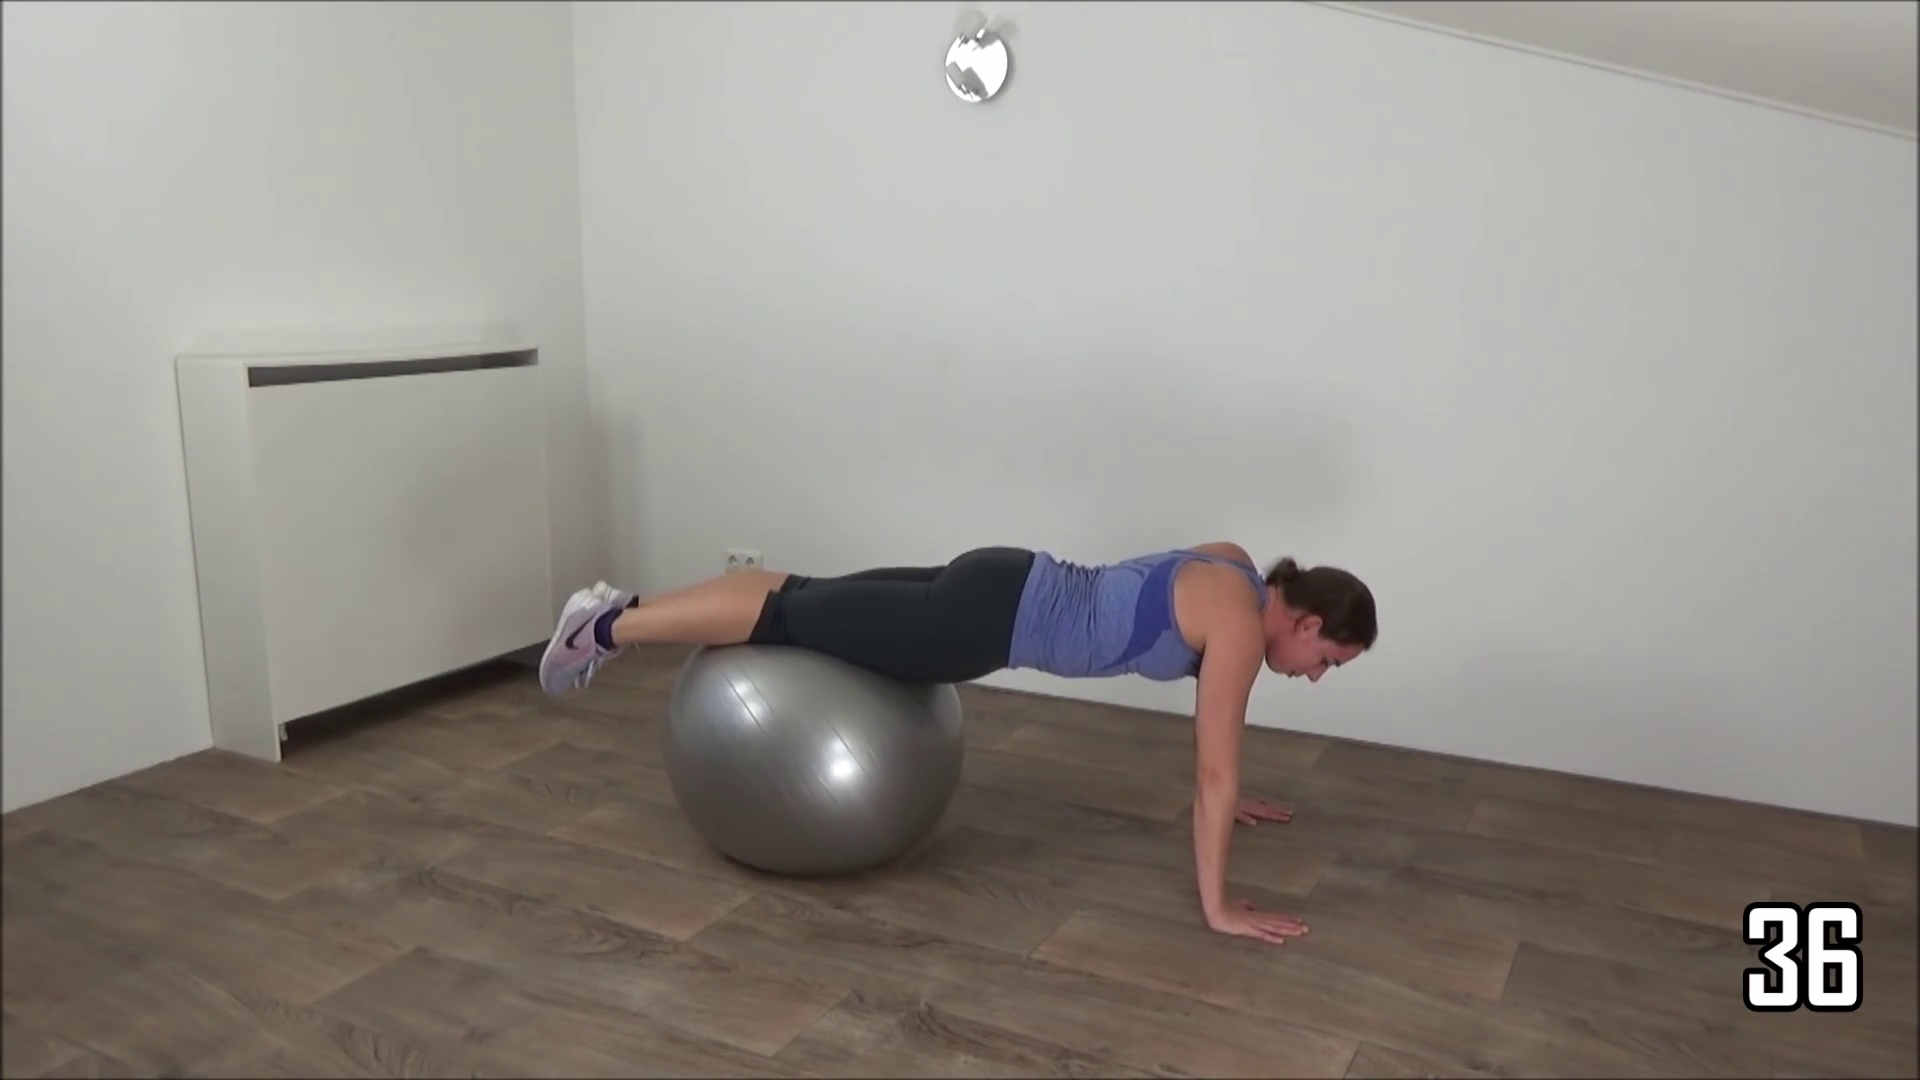yogaball: (644, 611, 984, 891)
